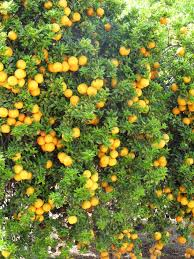orange: (77, 83, 90, 95), (87, 86, 98, 99)
